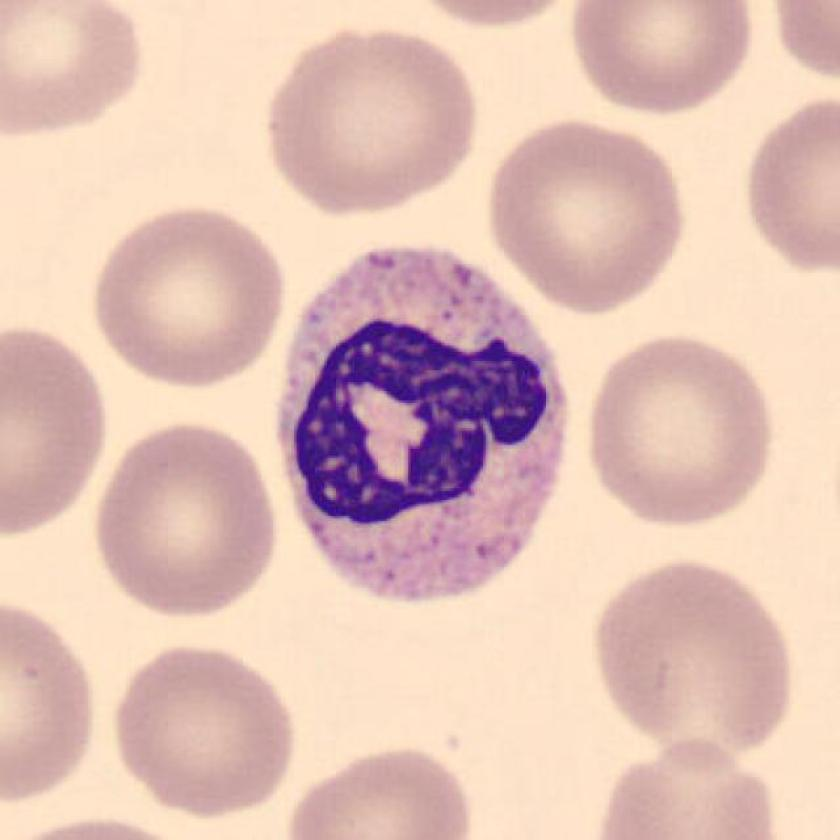neutrophil: (279, 246, 567, 597)
